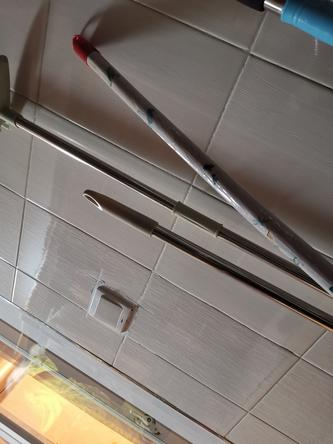switch: (85, 294, 127, 331)
